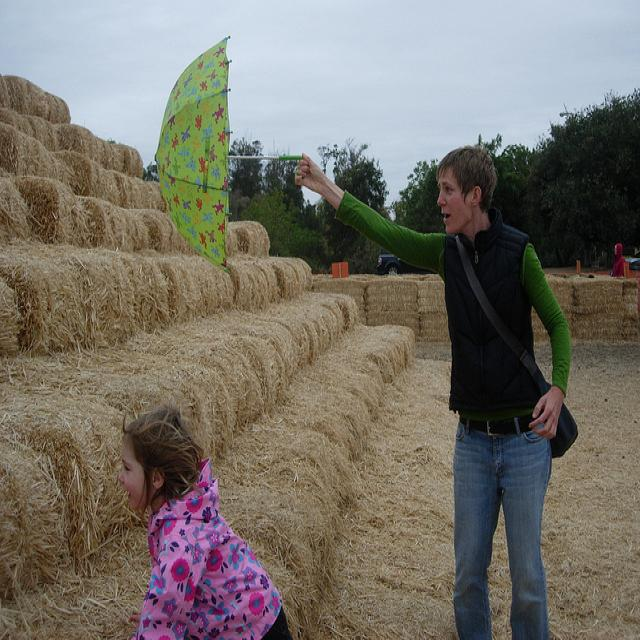Vehicle: (376, 253, 435, 276), (625, 253, 640, 269)
